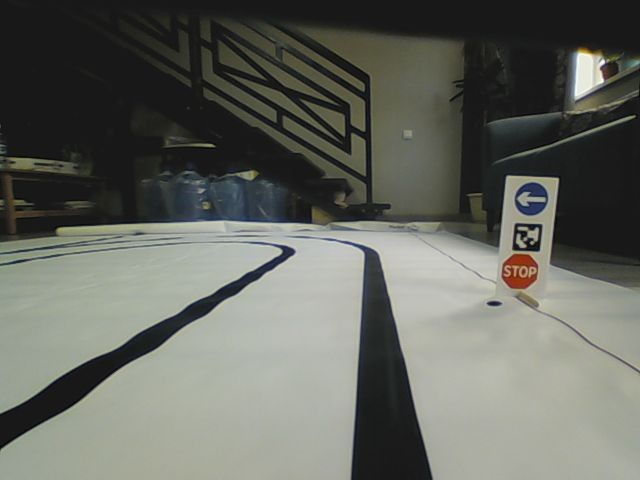Stop: (498, 252, 540, 291)
